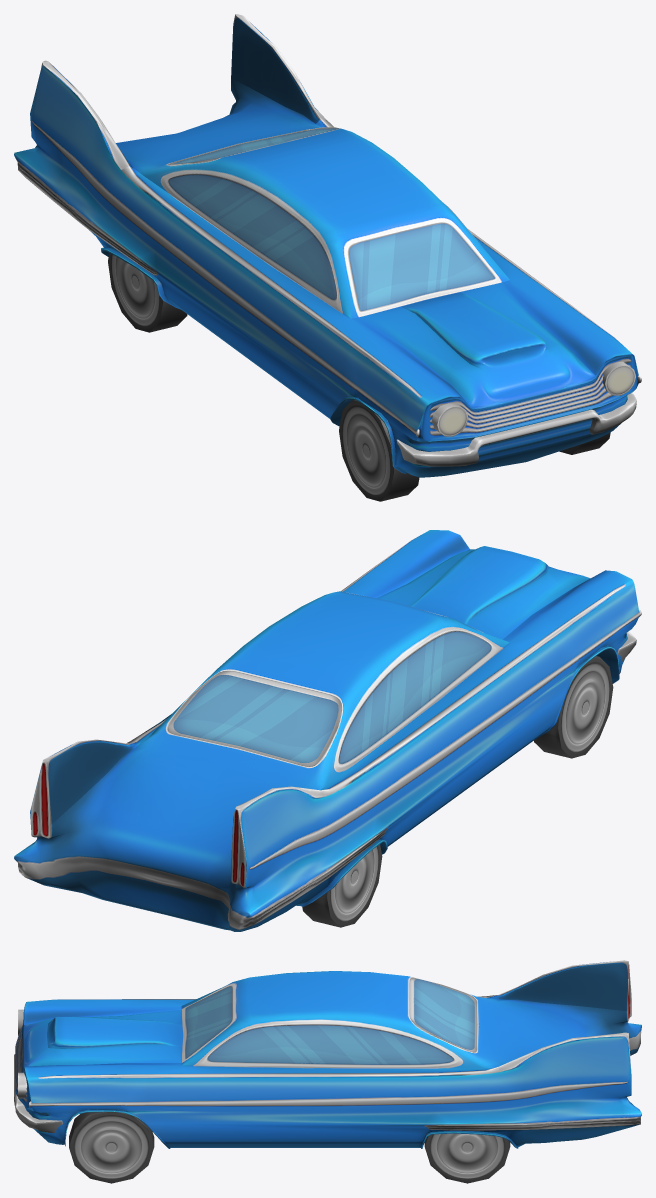
The model's file is obj_car01.gltf.
3 renders of one model, top to bottom at view 1: azimuth 30°, elevation 25°; view 2: azimuth 150°, elevation 25°; view 3: azimuth 270°, elevation 25°, orthographic. The views are drawn at different scales.
Visible parts, largest first — view 1: obj_car01; view 2: obj_car01; view 3: obj_car01.
Boxes of the visible parts, <box> form: obj_car01: <box>14,14,641,501</box>; obj_car01: <box>14,530,641,931</box>; obj_car01: <box>14,960,641,1183</box>.
Size of what is drawn, in the model's own units: 1.01 by 0.788 by 2.95.
1 material, 1 textured.
